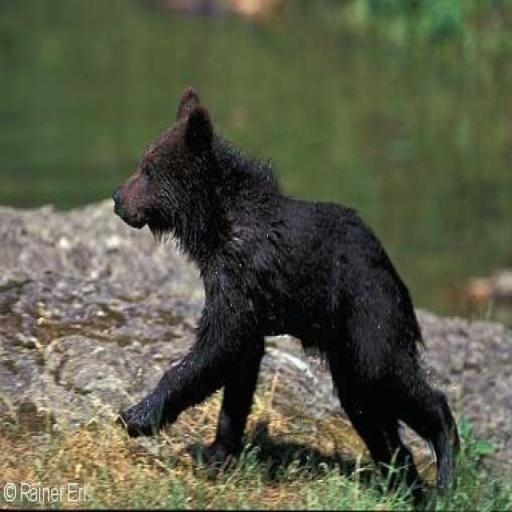Bear: (111, 85, 461, 506)
